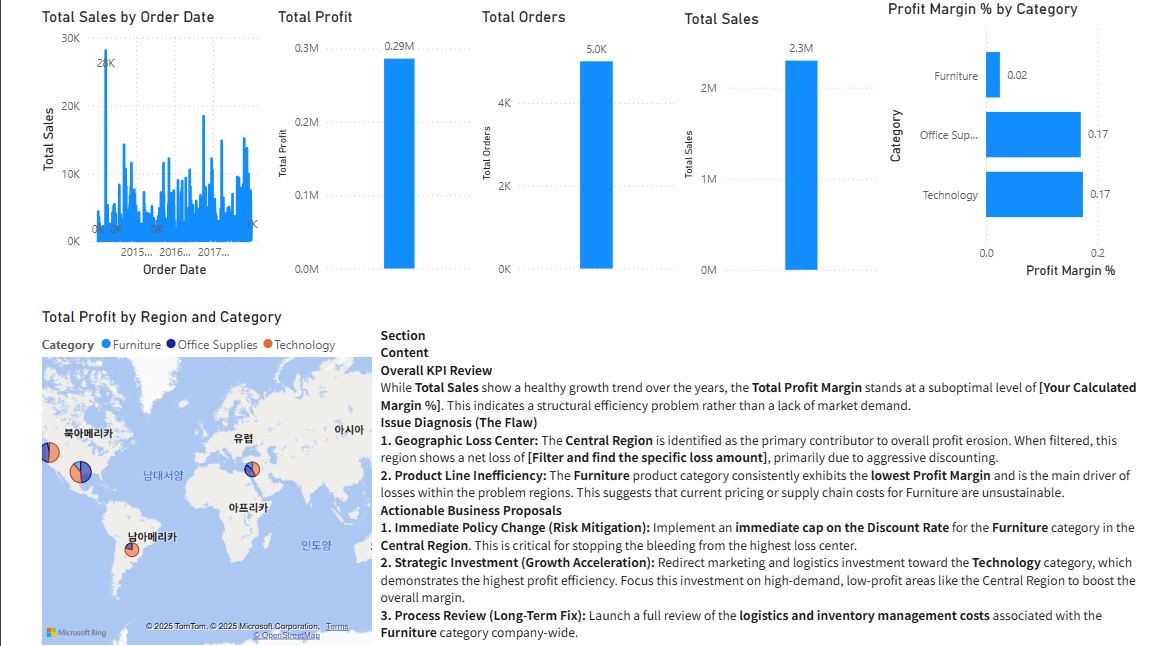

The dashboard page shown, as its layout file describes it:
{"tool":"powerbi","page":{"name":"1 페이지","canvas":[1280,720],"ordinal":0},"visuals":[{"type":"lineChart","fields":{"Y":["Sample - Superstore.Total Sales"],"Category":["Sample - Superstore.Order Date"]},"box":[39.8,15.1,259.3,300.5],"z":0},{"type":"clusteredColumnChart","fields":{"Y":["Sample - Superstore.Total Profit"]},"box":[299.1,15.1,223.7,300.5],"z":1000},{"type":"clusteredColumnChart","fields":{"Y":["Sample - Superstore.Total Orders"]},"box":[522.8,15.1,222.3,300.5],"z":2000},{"type":"map","fields":{"Series":["Sample - Superstore.Category"],"Category":["Sample - Superstore.Region","Sample - Superstore.City","Sample - Superstore.Country"],"Size":["Sample - Superstore.Total Profit"]},"box":[39.8,344.4,371.9,376],"z":3000},{"type":"clusteredBarChart","fields":{"Category":["Sample - Superstore.Category"],"Y":["Sample - Superstore.Profit Margin %"]},"box":[968.8,5.5,311.5,311.5],"z":4000},{"type":"clusteredColumnChart","fields":{"Y":["Sample - Superstore.Total Sales"]},"box":[745.1,16.5,223.7,300.5],"z":4001},{"type":"textbox","box":[411.7,359.5,846.7,360.9],"z":4002}]}

Visuals, with their boxes in screenshot pixels (x1, y1, x2, y2), scaled from the page's 1280x720 canvas onto the 1151x646 screenshot:
lineChart - Sample - Superstore.Total Sales x Sample - Superstore.Order Date: {"left": 36, "top": 14, "right": 269, "bottom": 283}
clusteredColumnChart - Sample - Superstore.Total Profit: {"left": 269, "top": 14, "right": 470, "bottom": 283}
clusteredColumnChart - Sample - Superstore.Total Orders: {"left": 470, "top": 14, "right": 670, "bottom": 283}
map - Sample - Superstore.Category x Sample - Superstore.Region: {"left": 36, "top": 309, "right": 370, "bottom": 645}
clusteredBarChart - Sample - Superstore.Category x Sample - Superstore.Profit Margin %: {"left": 871, "top": 5, "right": 1150, "bottom": 284}
clusteredColumnChart - Sample - Superstore.Total Sales: {"left": 670, "top": 15, "right": 871, "bottom": 284}
textbox: {"left": 370, "top": 323, "right": 1132, "bottom": 645}
